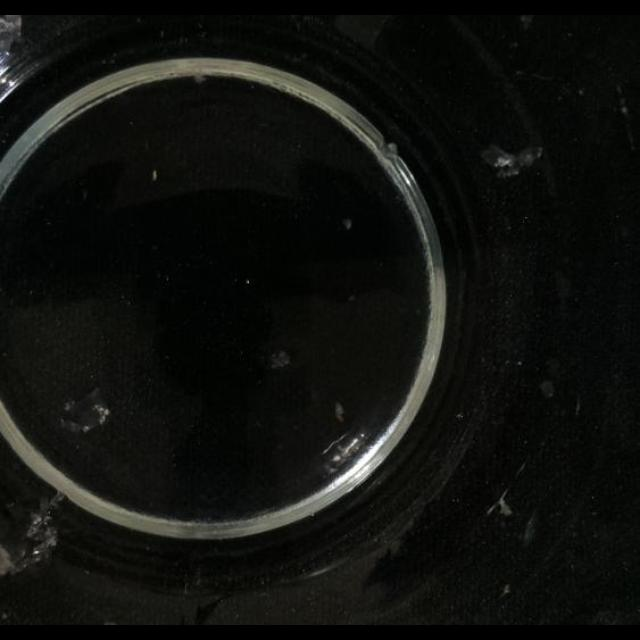Fibre: (2, 494, 62, 582), (58, 387, 112, 435), (485, 143, 543, 177), (617, 99, 637, 150), (523, 506, 541, 546), (268, 348, 292, 368), (539, 379, 555, 398), (518, 15, 534, 29), (192, 73, 206, 85), (620, 105, 630, 117), (574, 398, 580, 417)
microbeads: (488, 493, 514, 517), (334, 402, 346, 424), (501, 584, 512, 598), (342, 218, 352, 230), (151, 169, 159, 181)
